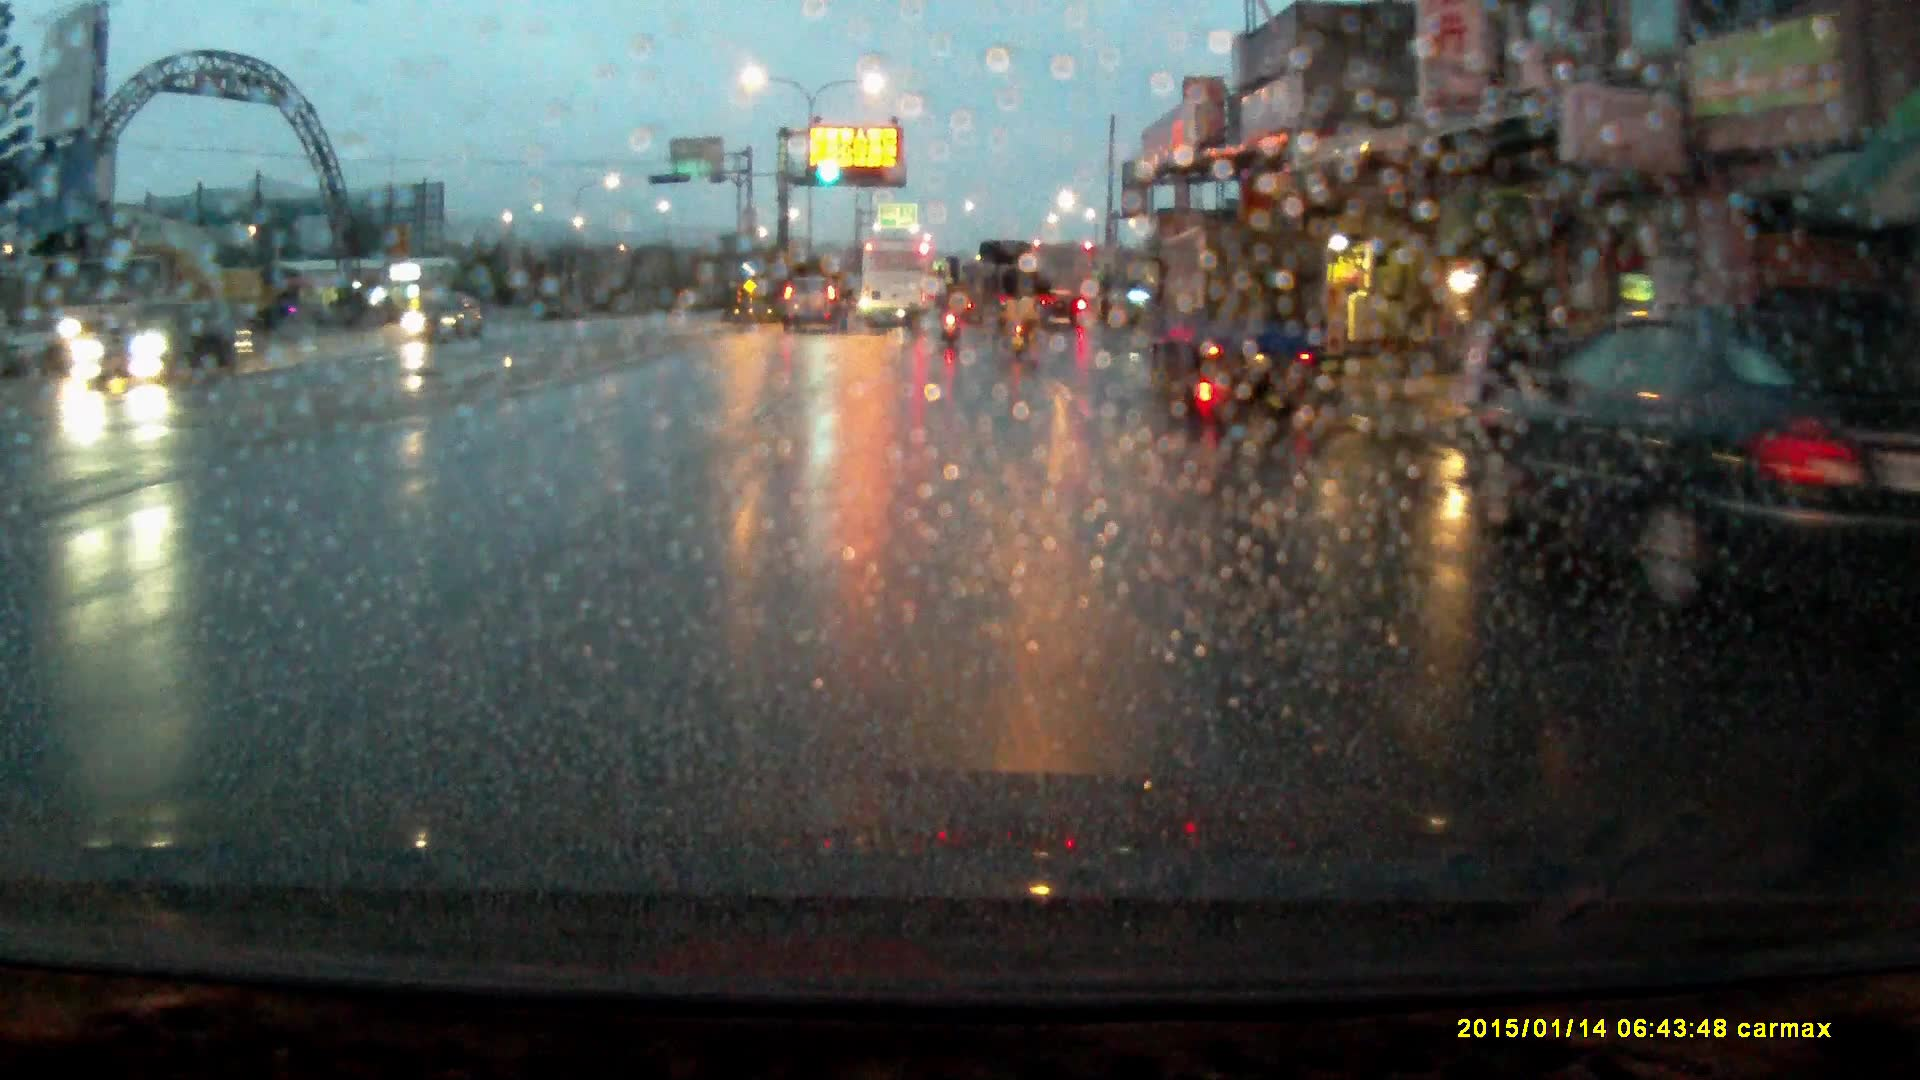rider: (1000, 276, 1039, 360), (933, 273, 966, 338)
vehicle: (1464, 304, 1908, 623), (1145, 221, 1331, 400), (57, 246, 278, 364), (87, 308, 239, 396), (859, 238, 931, 328), (978, 241, 1047, 331), (399, 291, 482, 347), (782, 269, 848, 329)
